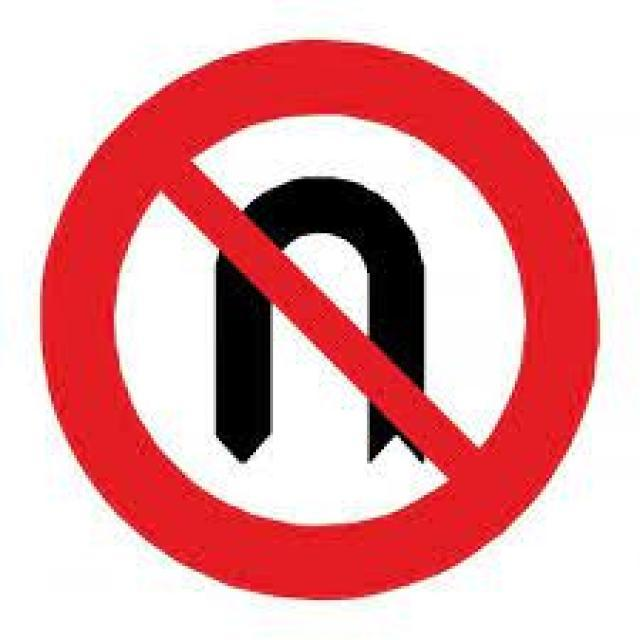u turn prohibited: (40, 36, 606, 605)
